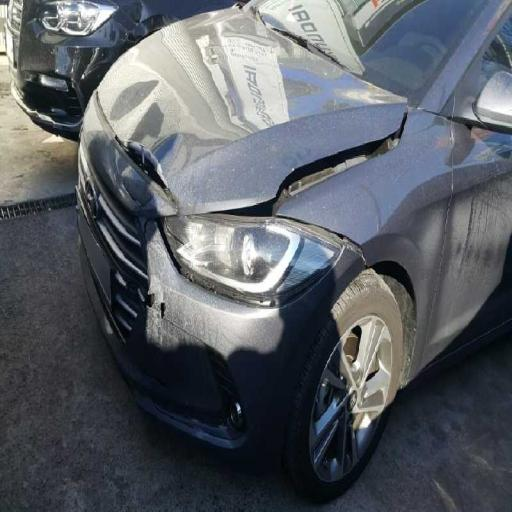dent: (100, 90, 195, 263)
